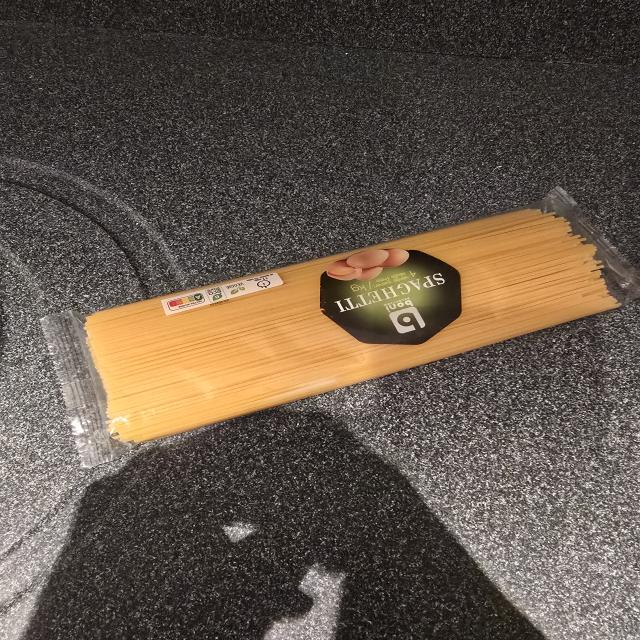Pasta: (84, 188, 638, 442)
